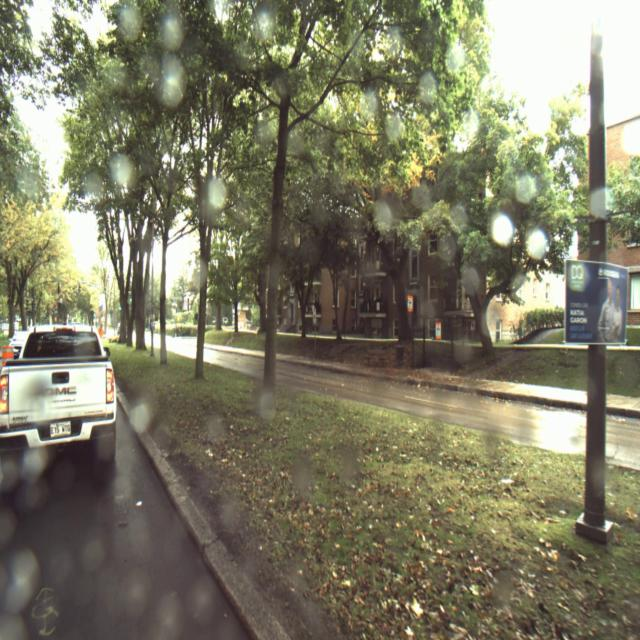car: (1, 325, 116, 468), (10, 330, 28, 358)
